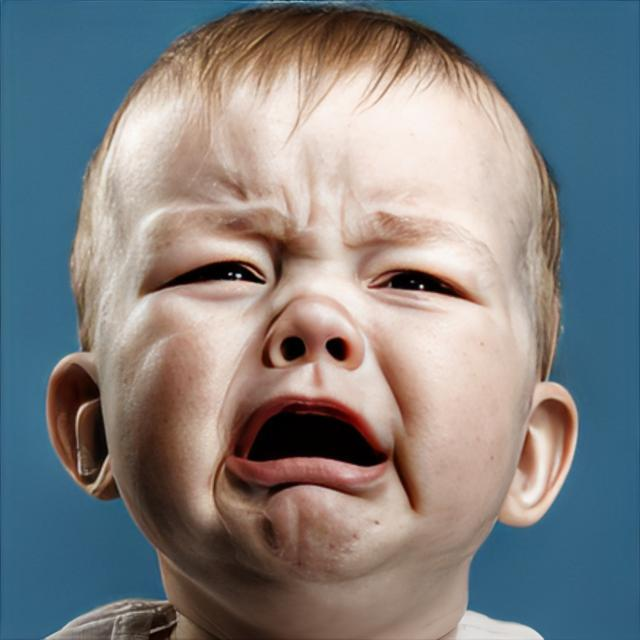sad: (111, 44, 538, 594)
